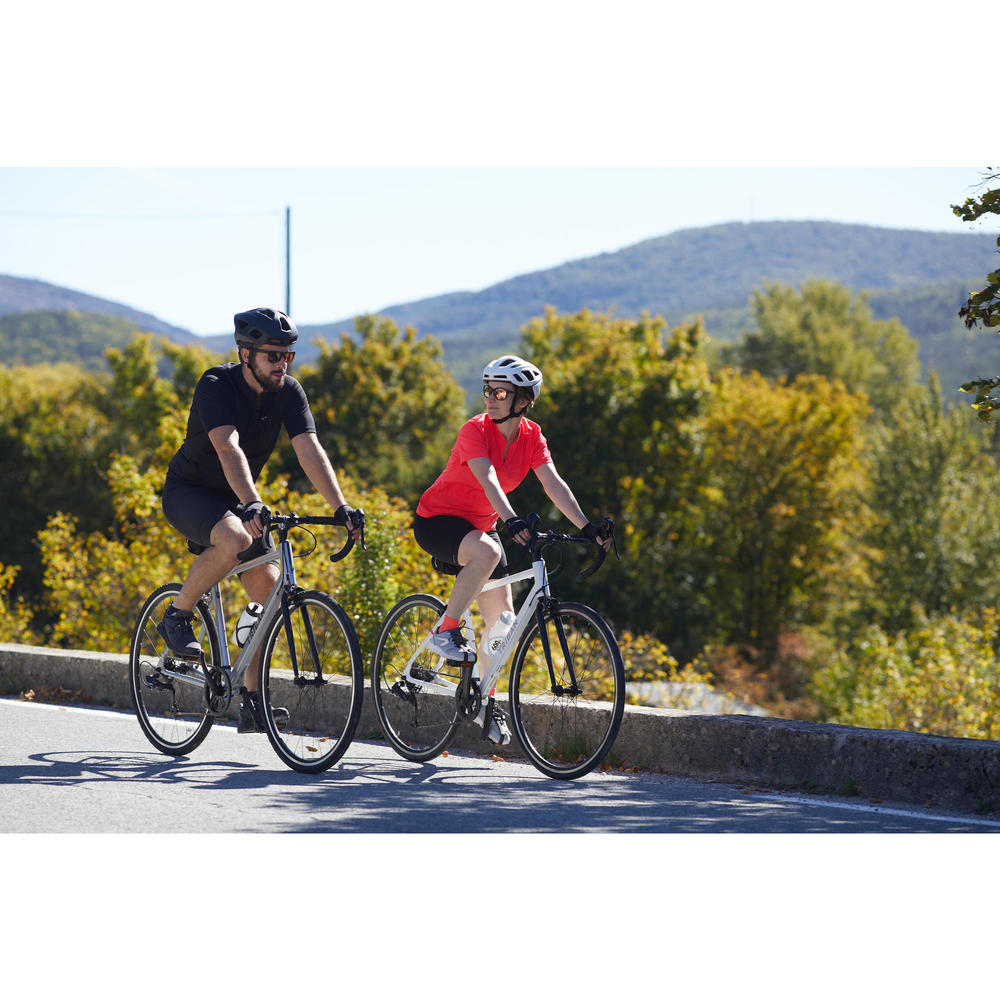RoadBike: (121, 476, 373, 774), (359, 501, 633, 774)
